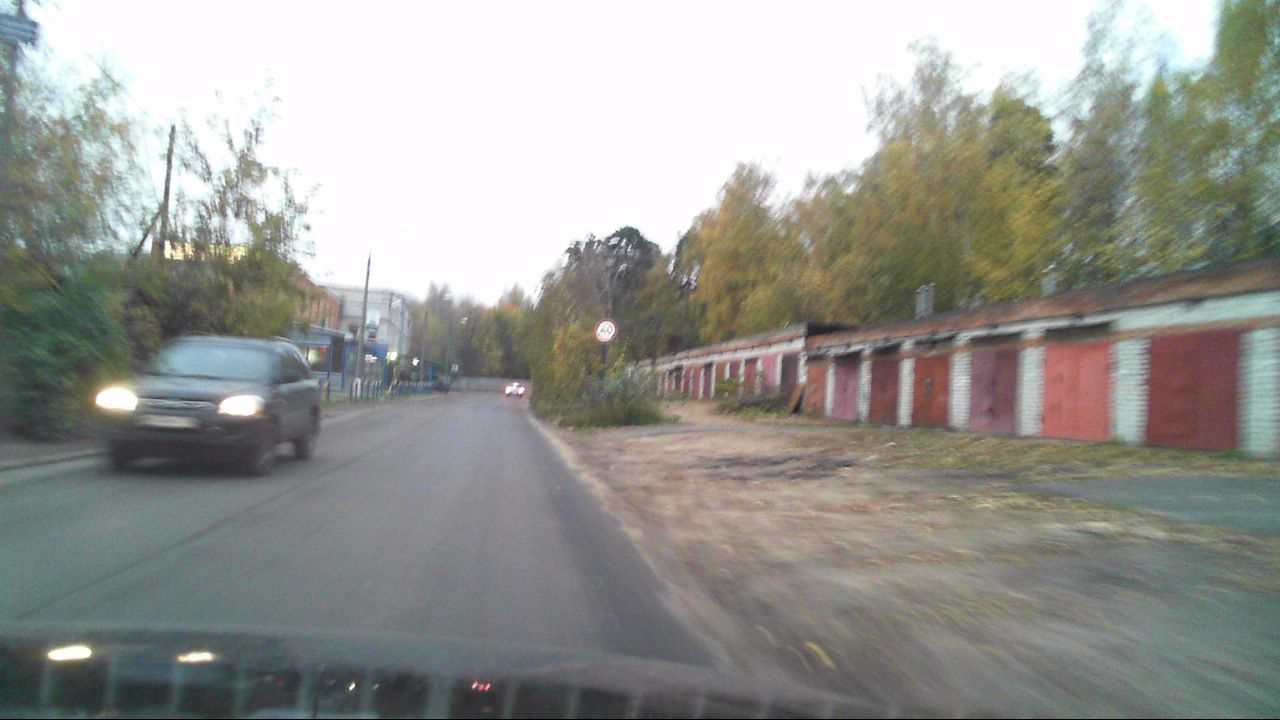speed_warning_40: (597, 320, 617, 340)
